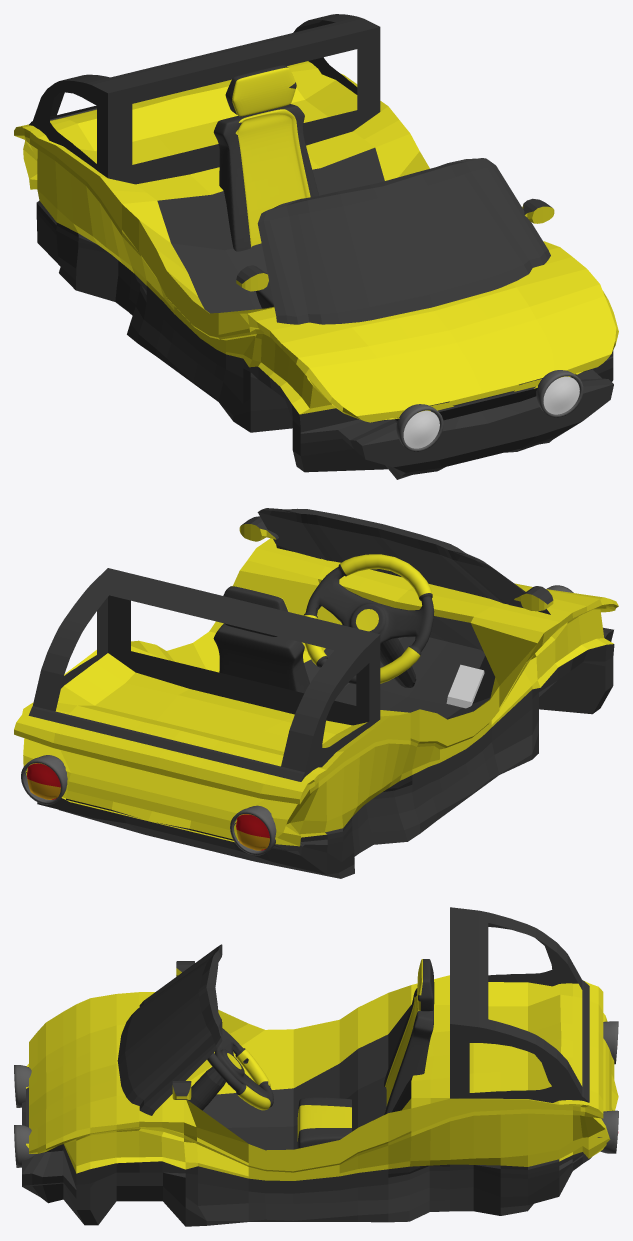
Rendered from Buggy.fbx.
The picture shows the model from 3 angles, top to bottom: view 1: azimuth 30°, elevation 25°; view 2: azimuth 150°, elevation 25°; view 3: azimuth 270°, elevation 25°; orthographic projection. The views are drawn at different scales.
Parts seen in each view (by area): view 1: Base, F Glass, Jail, Seat, Light L, Light R, RearView R; view 2: Base, Jail, F Glass, Guidon, Seat, Light R.001, Light R.002, Pedals, RearView R, RearView L; view 3: Base, Jail, F Glass, Seat, Guidon, Light L, Light R.001, Light R, Light R.002.
Boxes of the visible parts, <box> form: Base: <box>14,61,618,479</box>; F Glass: <box>257,158,550,324</box>; Jail: <box>29,14,380,184</box>; Seat: <box>213,65,318,308</box>; Light L: <box>536,370,583,417</box>; Light R: <box>396,404,443,451</box>; RearView R: <box>236,265,268,291</box>; Base: <box>14,538,618,878</box>; Jail: <box>28,568,380,781</box>; F Glass: <box>257,508,550,614</box>; Guidon: <box>303,554,434,687</box>; Seat: <box>213,586,309,693</box>; Light R.001: <box>21,755,67,804</box>; Light R.002: <box>230,805,276,855</box>; Pedals: <box>446,664,484,708</box>; RearView R: <box>514,586,553,611</box>; RearView L: <box>239,516,278,541</box>; Base: <box>22,975,618,1226</box>; Jail: <box>450,907,589,1102</box>; F Glass: <box>117,944,222,1115</box>; Seat: <box>297,959,434,1148</box>; Guidon: <box>188,1028,273,1110</box>; Light L: <box>14,1125,35,1167</box>; Light R.001: <box>597,1110,618,1153</box>; Light R: <box>14,1065,31,1107</box>; Light R.002: <box>603,1021,618,1064</box>.
Bounding box in the file's own units: 113 × 80.49 × 215.
